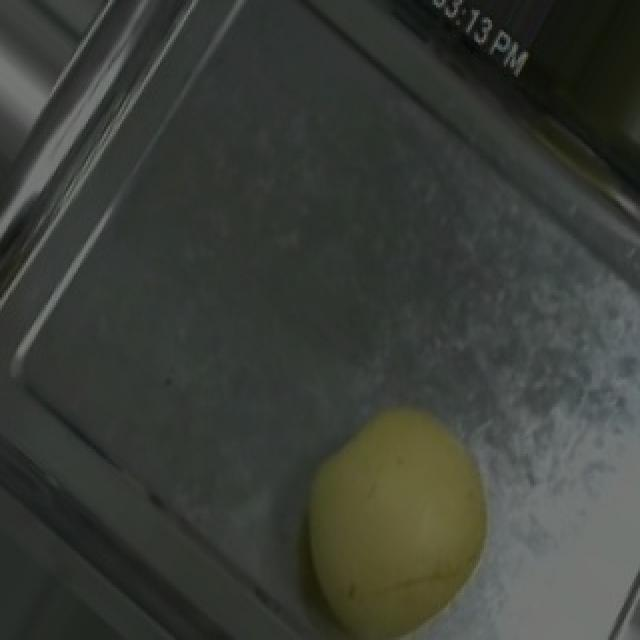Fruit: (260, 367, 532, 640)
